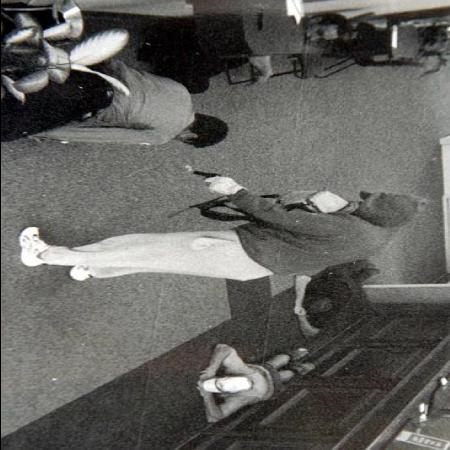Pistol: (178, 162, 249, 188)
